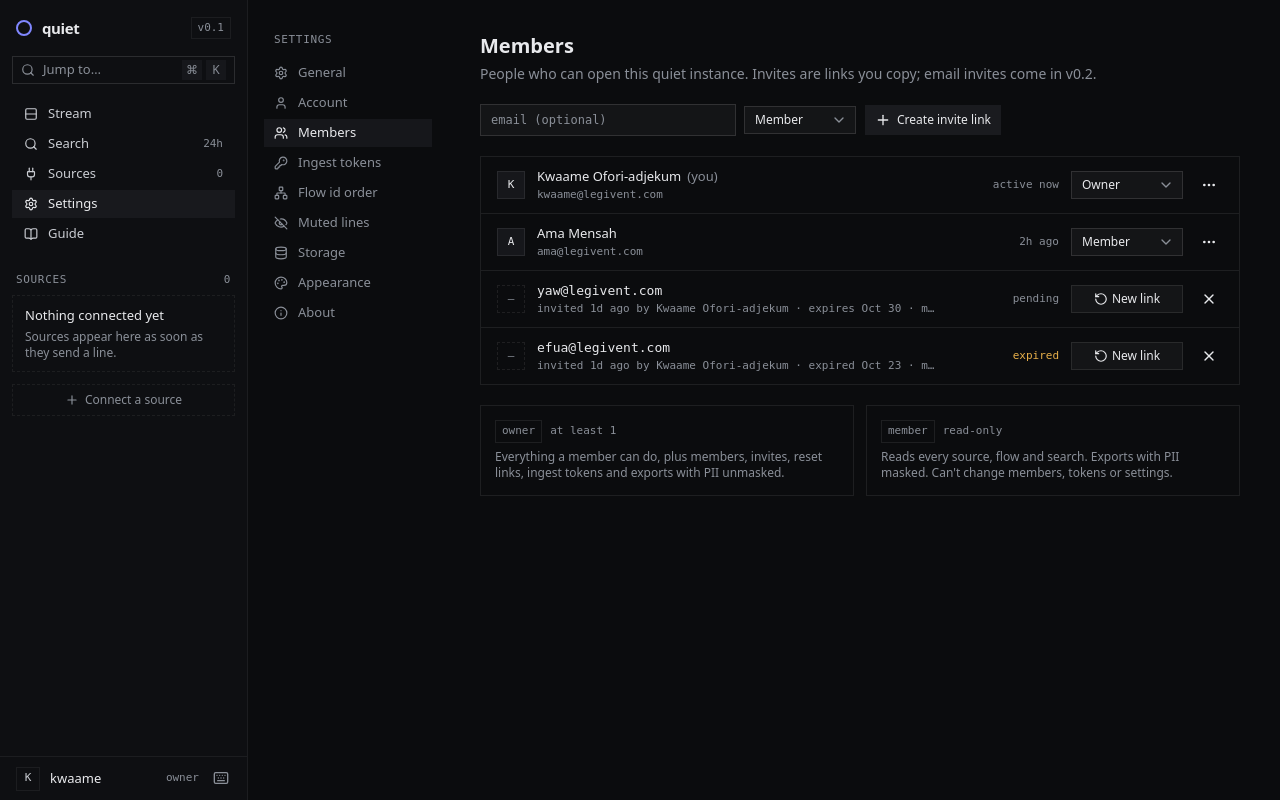
Scenario: members › owner: invite link banner, role select, reset link from the row menu (Menu + Dialog open)
Expected: the text "Ama Mensah" is shown, [537,224,617,242]
Expected: the text "active now" is shown, [993,178,1059,191]
Type "yaw@legivent.com" into the field named "Invitee email" at (608, 120), box [480,104,736,136]
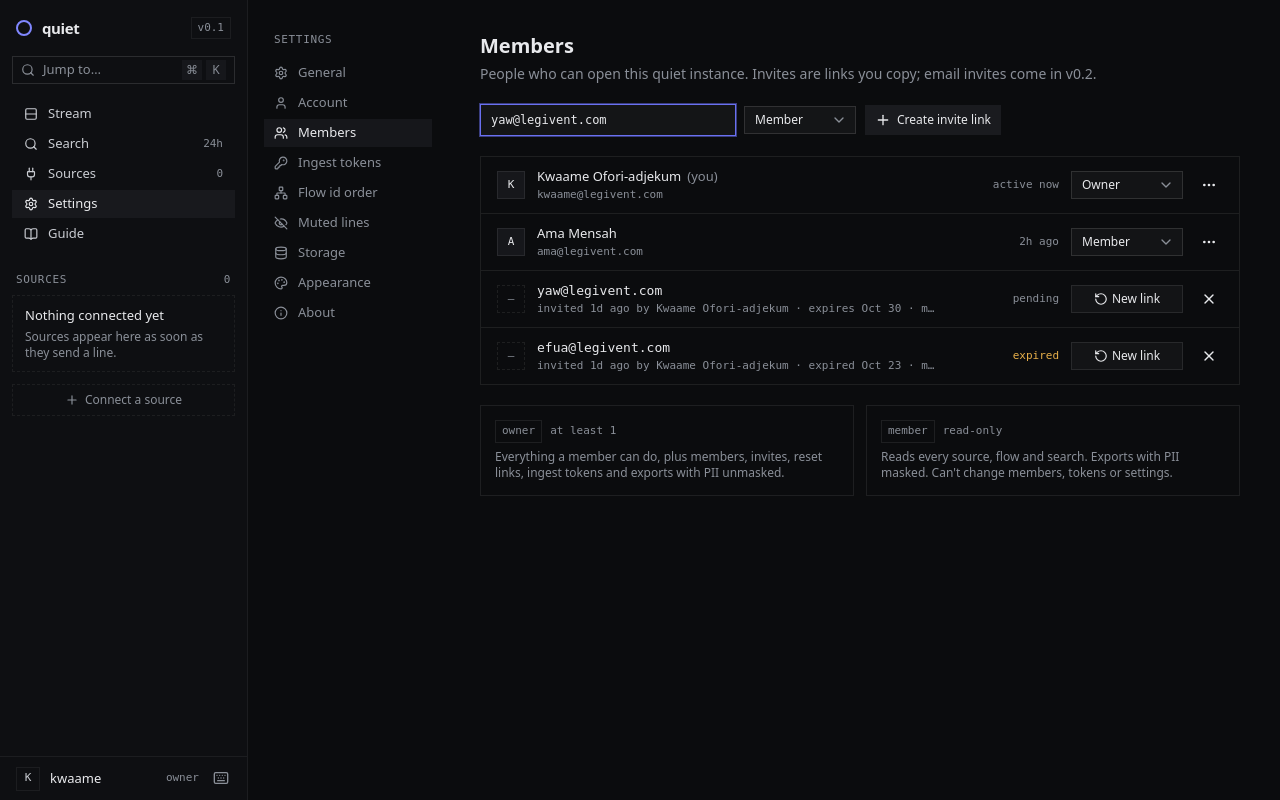
Click the button "Create invite link" at (933, 120), box [864,104,1002,136]
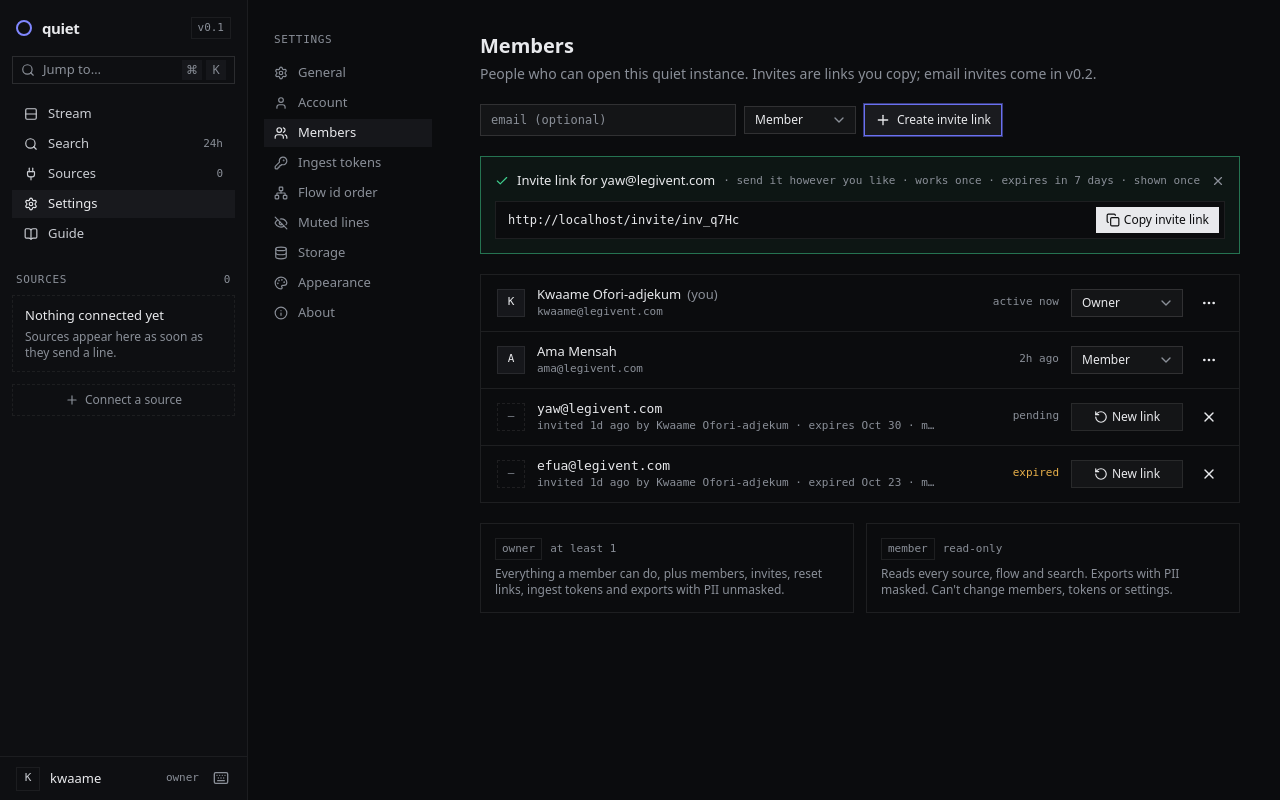
Now the text with test id "invite-link" shows "/invite/inv_q7Hc", box [508,212,739,226]
Click the button named "More for Ama Mensah" at (1209, 360), box [1195,346,1223,374]
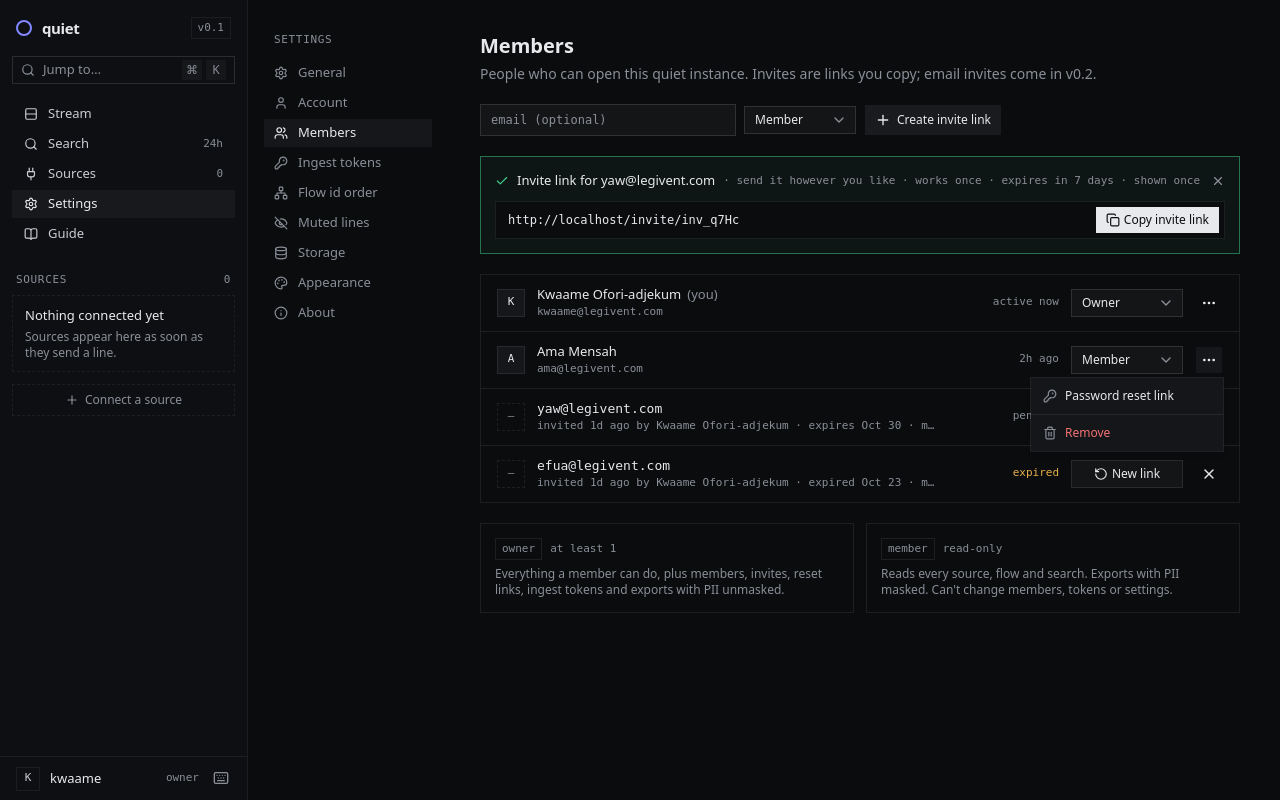
Click the menu item "Password reset link" at (1108, 396), box [1043,387,1174,404]
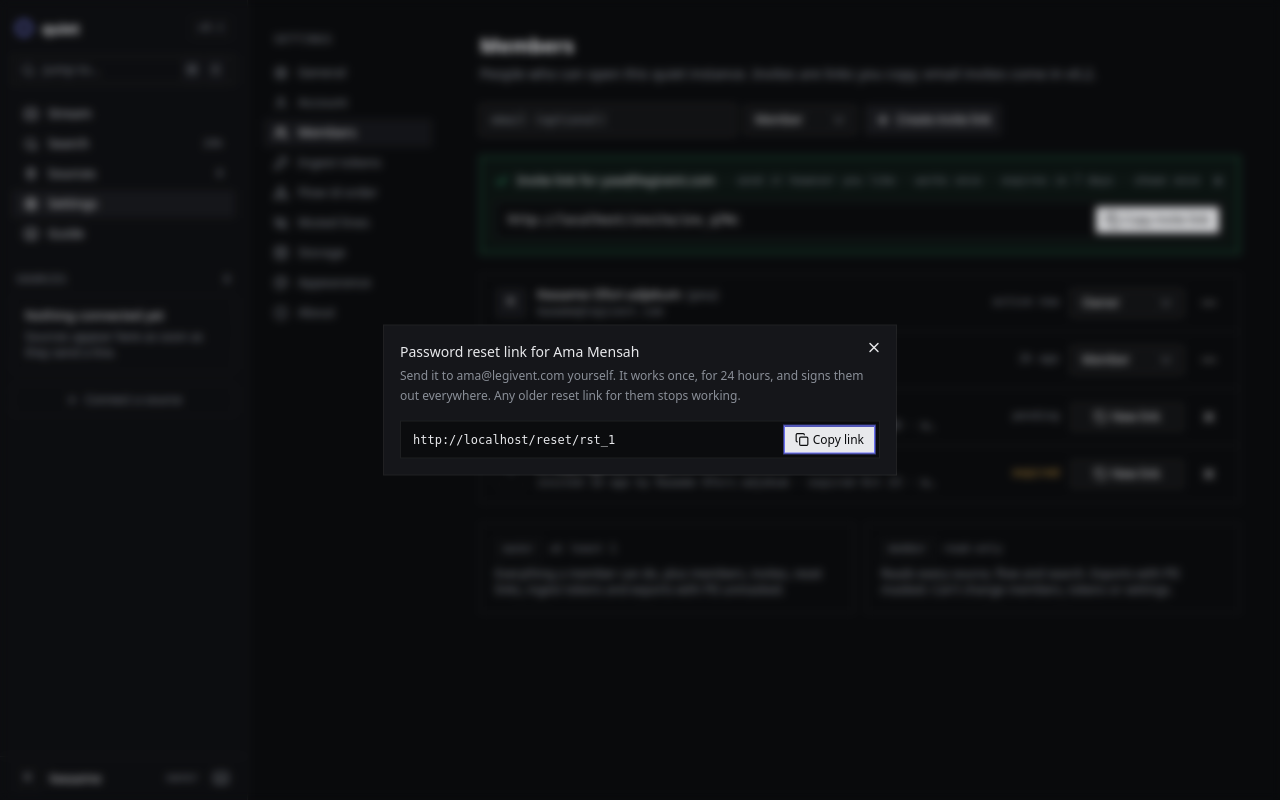
Now the text "/reset/rst_1" is shown, box [413,432,615,446]
